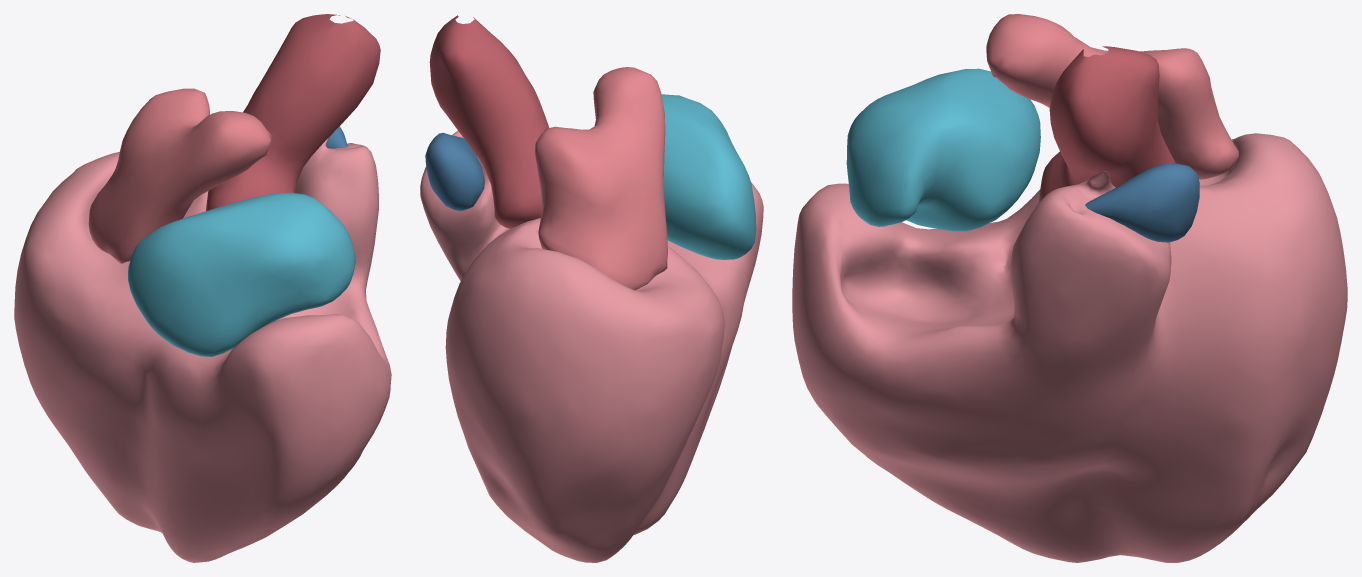
Rendered from frame_0.glb.
3 renders of one model, left to right at view 1: azimuth 30°, elevation 25°; view 2: azimuth 150°, elevation 25°; view 3: azimuth 270°, elevation 25°, orthographic. The views are drawn at different scales.
Visible parts, largest first — view 1: Renderer Node; view 2: Renderer Node; view 3: Renderer Node.
Boxes of the visible parts, x1=… form: Renderer Node: x1=14, y1=14, x2=391, y2=562; Renderer Node: x1=420, y1=15, x2=763, y2=562; Renderer Node: x1=792, y1=14, x2=1347, y2=562.
Bounding box in the file's own units: 107 × 164 × 137.
